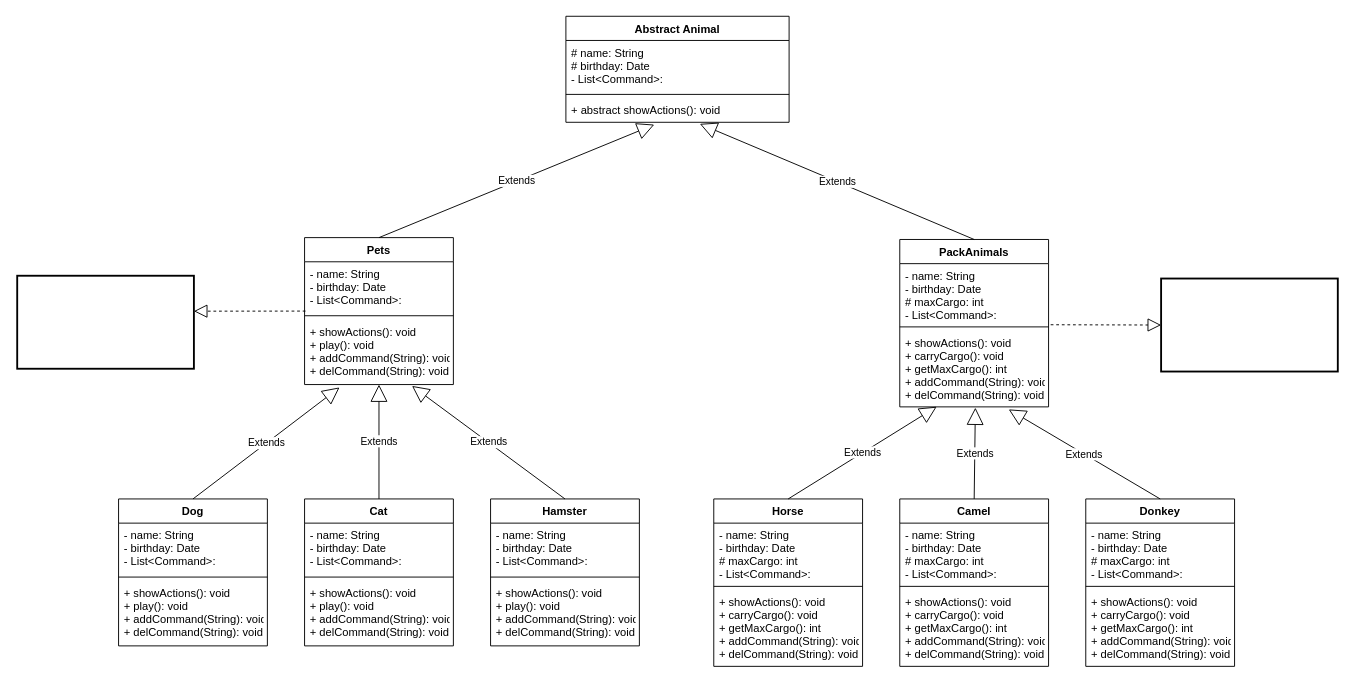
This 1354x685 diagram has some shape labels left out. The centre of each missing label's shape, as x and y in pixels:
<<Interface>> IPackAnimal + carryCargo(): void: the point at 1249,324
<<Interface>> IPet + play(): void: the point at 105,321
